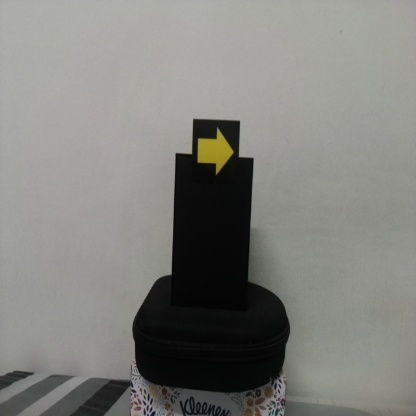id_3: (194, 121, 240, 184)
